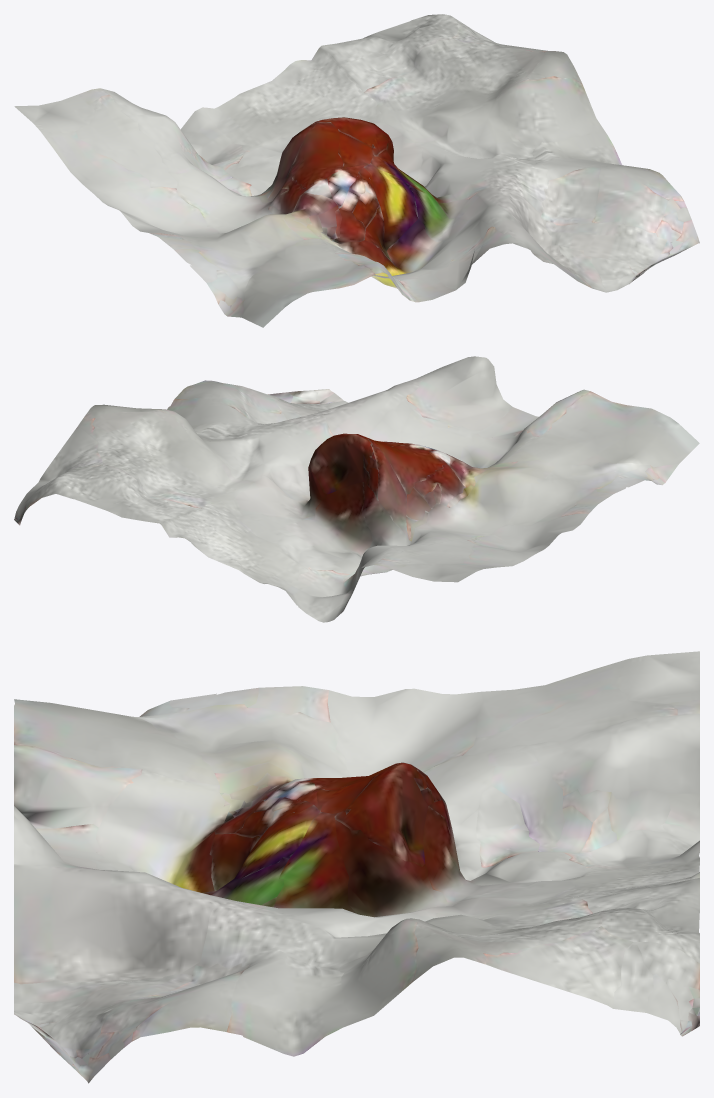
The model's file is hall.glb.
3 renders of one model, top to bottom at view 1: azimuth 30°, elevation 25°; view 2: azimuth 150°, elevation 25°; view 3: azimuth 270°, elevation 25°, orthographic. The views are drawn at different scales.
Size of the model in its own units: 0.8332 by 0.1808 by 0.7751.
Materials: 1 (1 with a texture image).
